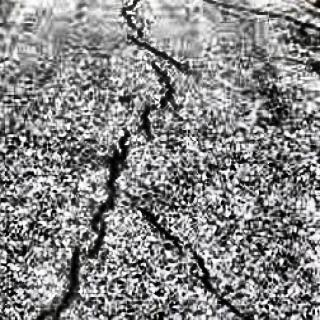crack: (38, 132, 130, 320), (134, 199, 259, 317), (117, 1, 187, 133)
